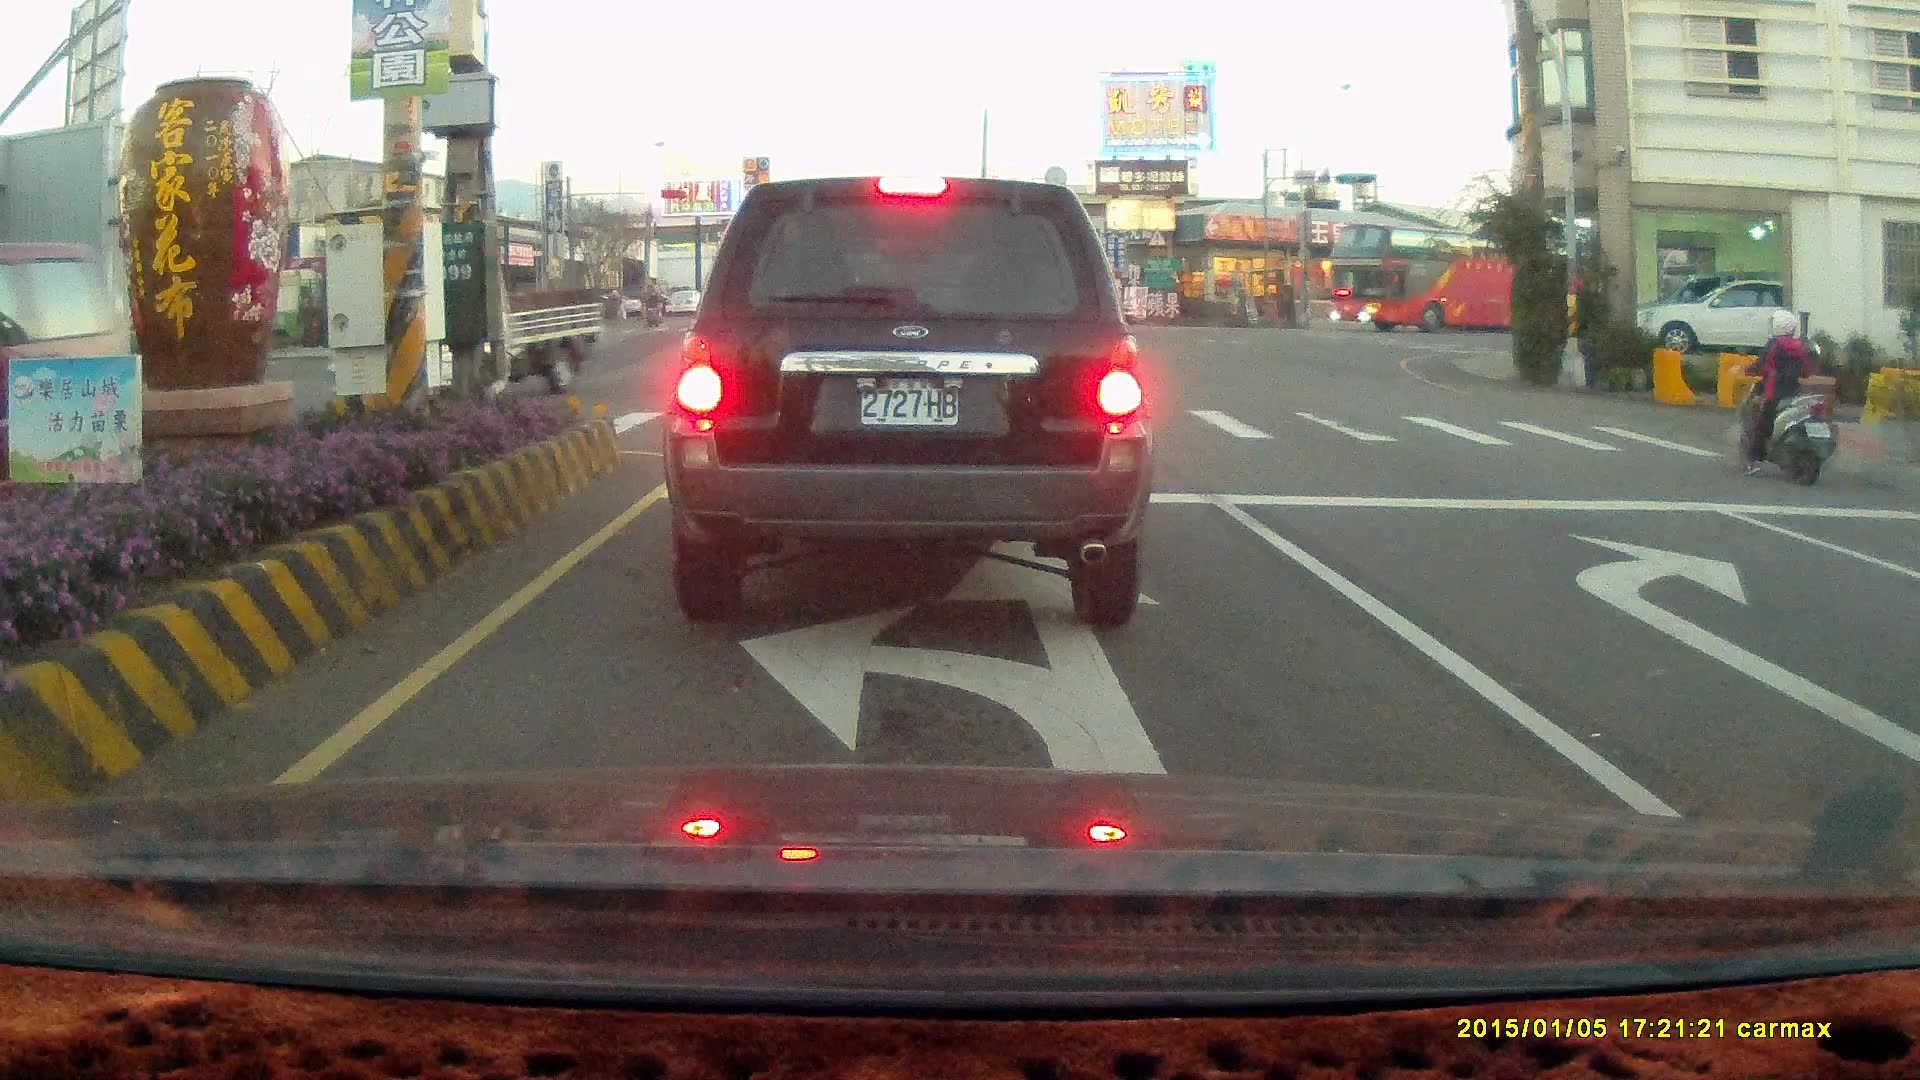rider: (1727, 308, 1834, 484), (641, 290, 662, 327)
vehicle: (661, 174, 1153, 630), (0, 236, 136, 529), (377, 259, 607, 409), (1318, 223, 1590, 334), (1622, 275, 1830, 354), (1642, 275, 1784, 356), (1896, 493, 1920, 836), (1883, 528, 1920, 690)
